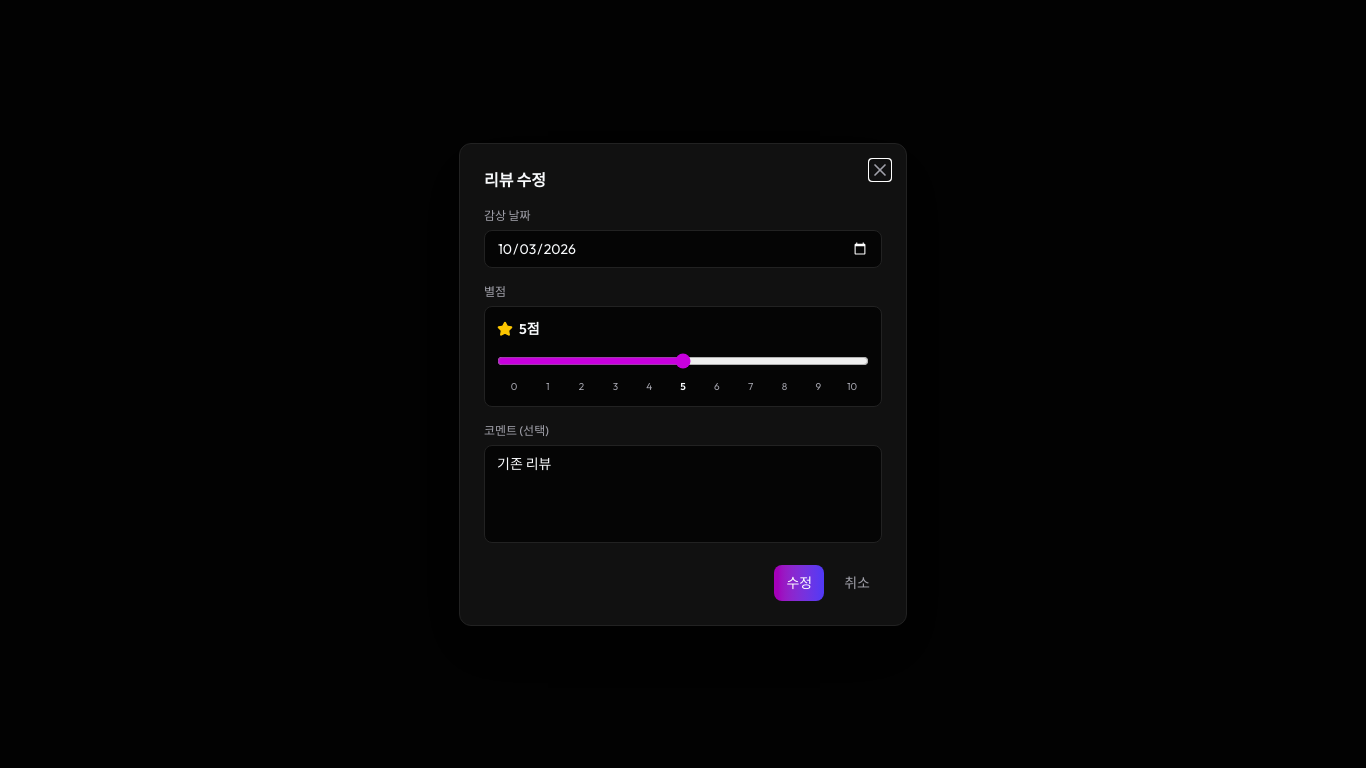
ReviewFormModal › rating 변경 시 좋아요가 있으면 경고 메시지를 표시해야 한다
Set the slider named "별점 선택" to "8": (790,360) [497,356,869,364]
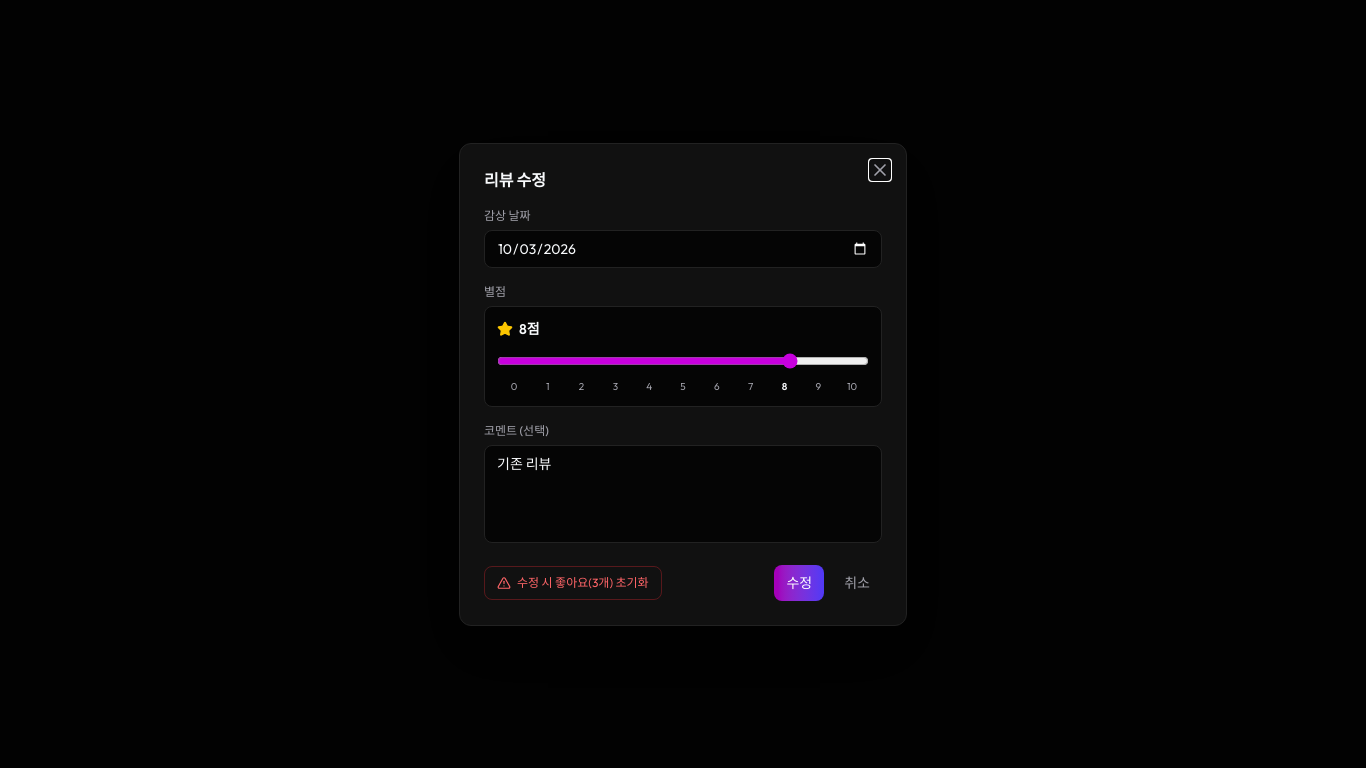
Check: the text "수정 시 좋아요(3개) 초기화" is shown, box [484,566,662,600]
